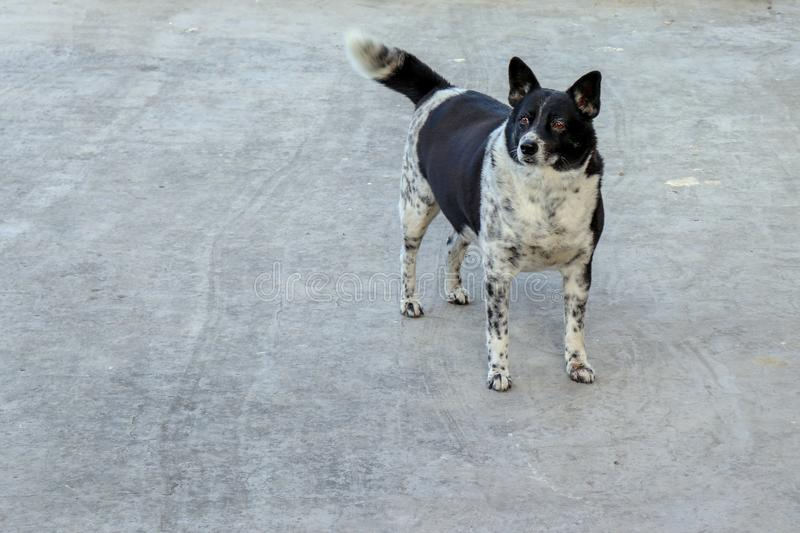nontarget: (310, 11, 646, 387)
